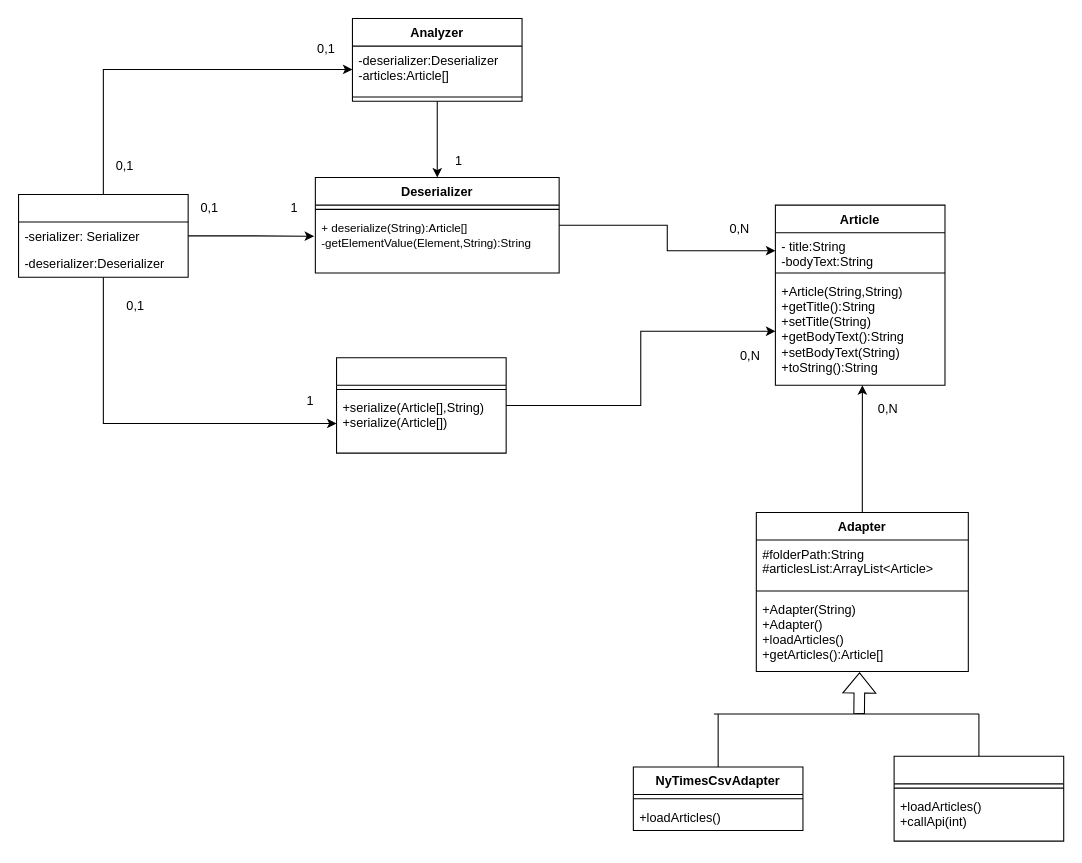
Some shapes in this 1082 by 863 pixel diagram are drawn without their labels. The shapes that lost their labels are listed below. From the top down, each one's box as (x1, y1, x2, y2) in pixels, then its label:
(17, 193, 188, 277): Main
(335, 357, 506, 453): Serializer
(893, 755, 1064, 841): TheGuardianJsonAdapter
